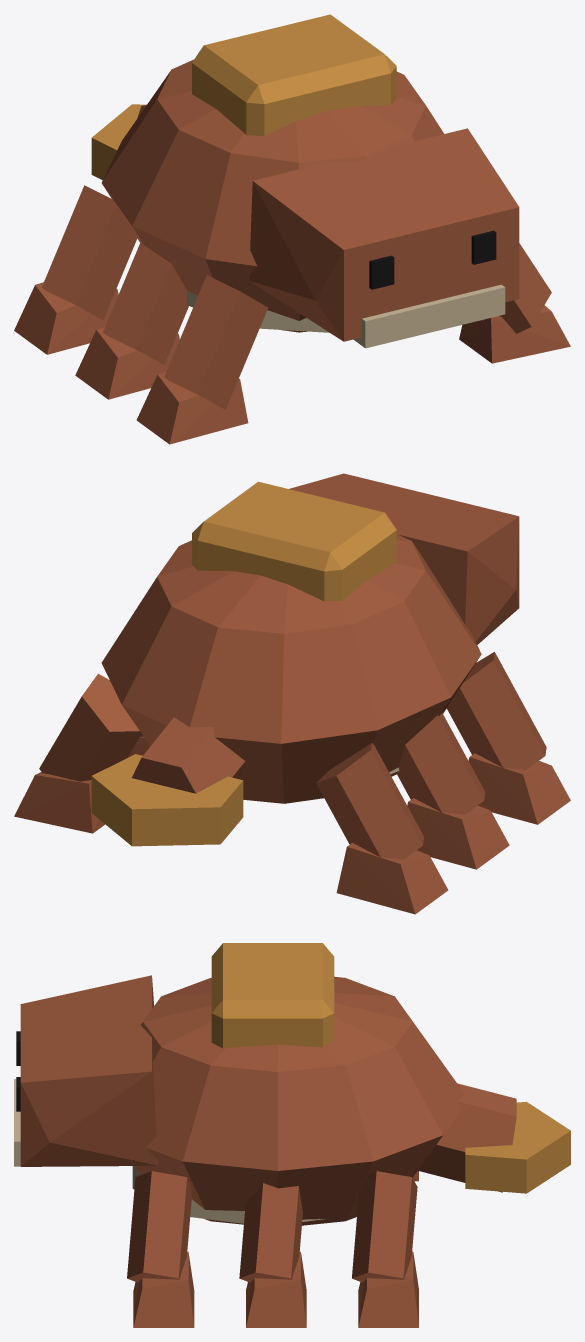
Rendered from cindupp.glb.
3 renders of one model, top to bottom at view 1: azimuth 30°, elevation 25°; view 2: azimuth 150°, elevation 25°; view 3: azimuth 270°, elevation 25°, orthographic. The views are drawn at different scales.
Parts seen in each view (by area): view 1: Cindupp; view 2: Cindupp; view 3: Cindupp.
Part boxes in pixels (box(x1,y1,x2,y2)): Cindupp: box(14, 14, 570, 444); Cindupp: box(14, 473, 570, 914); Cindupp: box(14, 943, 570, 1327).
Bounding box in the file's own units: 0.55 × 0.38 × 0.72.
